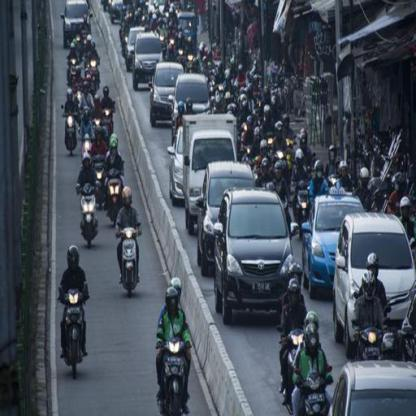car: (215, 188, 290, 308), (335, 213, 412, 322), (303, 197, 344, 280), (53, 0, 98, 47), (132, 29, 163, 86), (151, 60, 180, 117)
motorbike: (152, 332, 195, 416), (58, 286, 92, 380), (295, 362, 336, 416), (118, 220, 143, 296), (77, 180, 99, 246), (106, 166, 127, 217), (59, 106, 79, 152)
